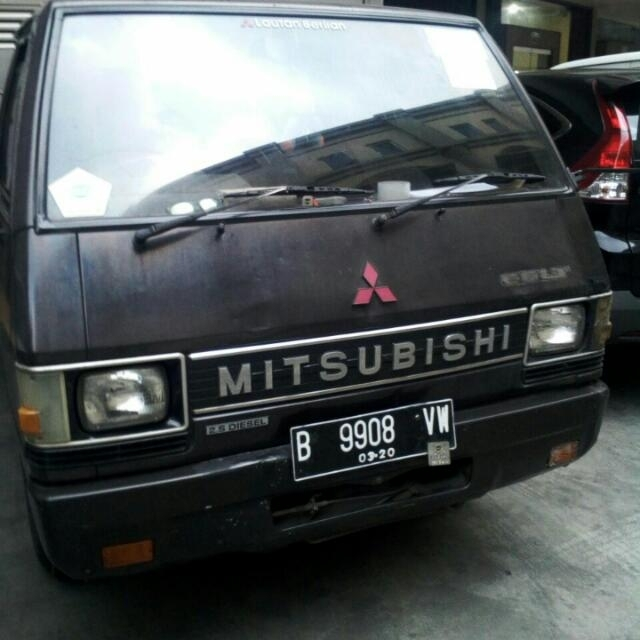plate: (289, 398, 456, 481)
